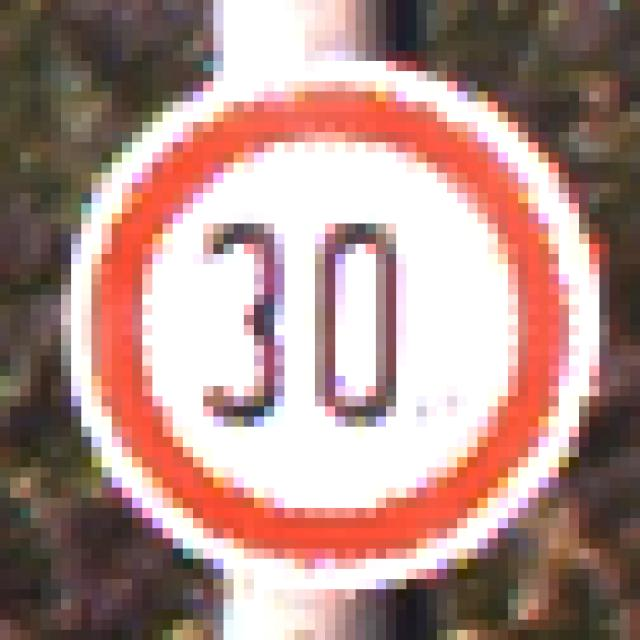Speed Limit -30-: (56, 46, 584, 574)
